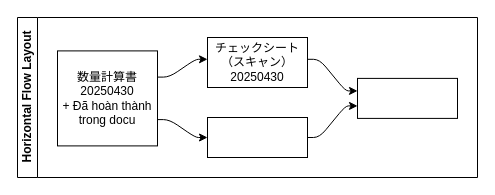
Image size: 495x195. Some labels were removed from this diagram. Each missing label, with the box of its shape:
End: (356, 77, 458, 118)
Task: (206, 116, 308, 158)
